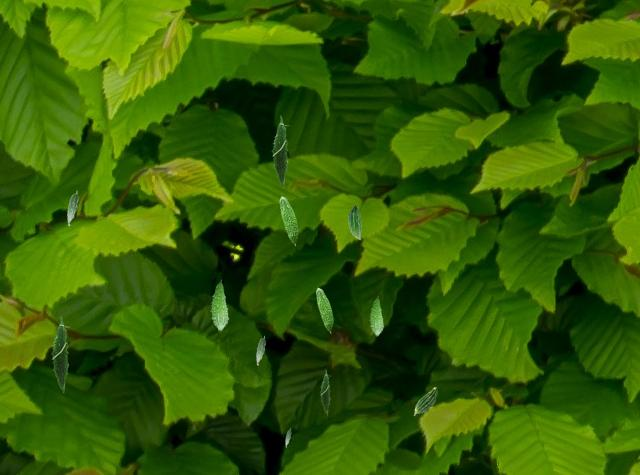ampalaya: (50, 316, 71, 393), (271, 115, 290, 188), (210, 279, 229, 332), (279, 196, 299, 246), (315, 287, 334, 333), (413, 386, 437, 416), (369, 295, 384, 337), (347, 203, 362, 240), (319, 369, 331, 415), (66, 190, 78, 226), (256, 335, 265, 365), (285, 428, 291, 447)
